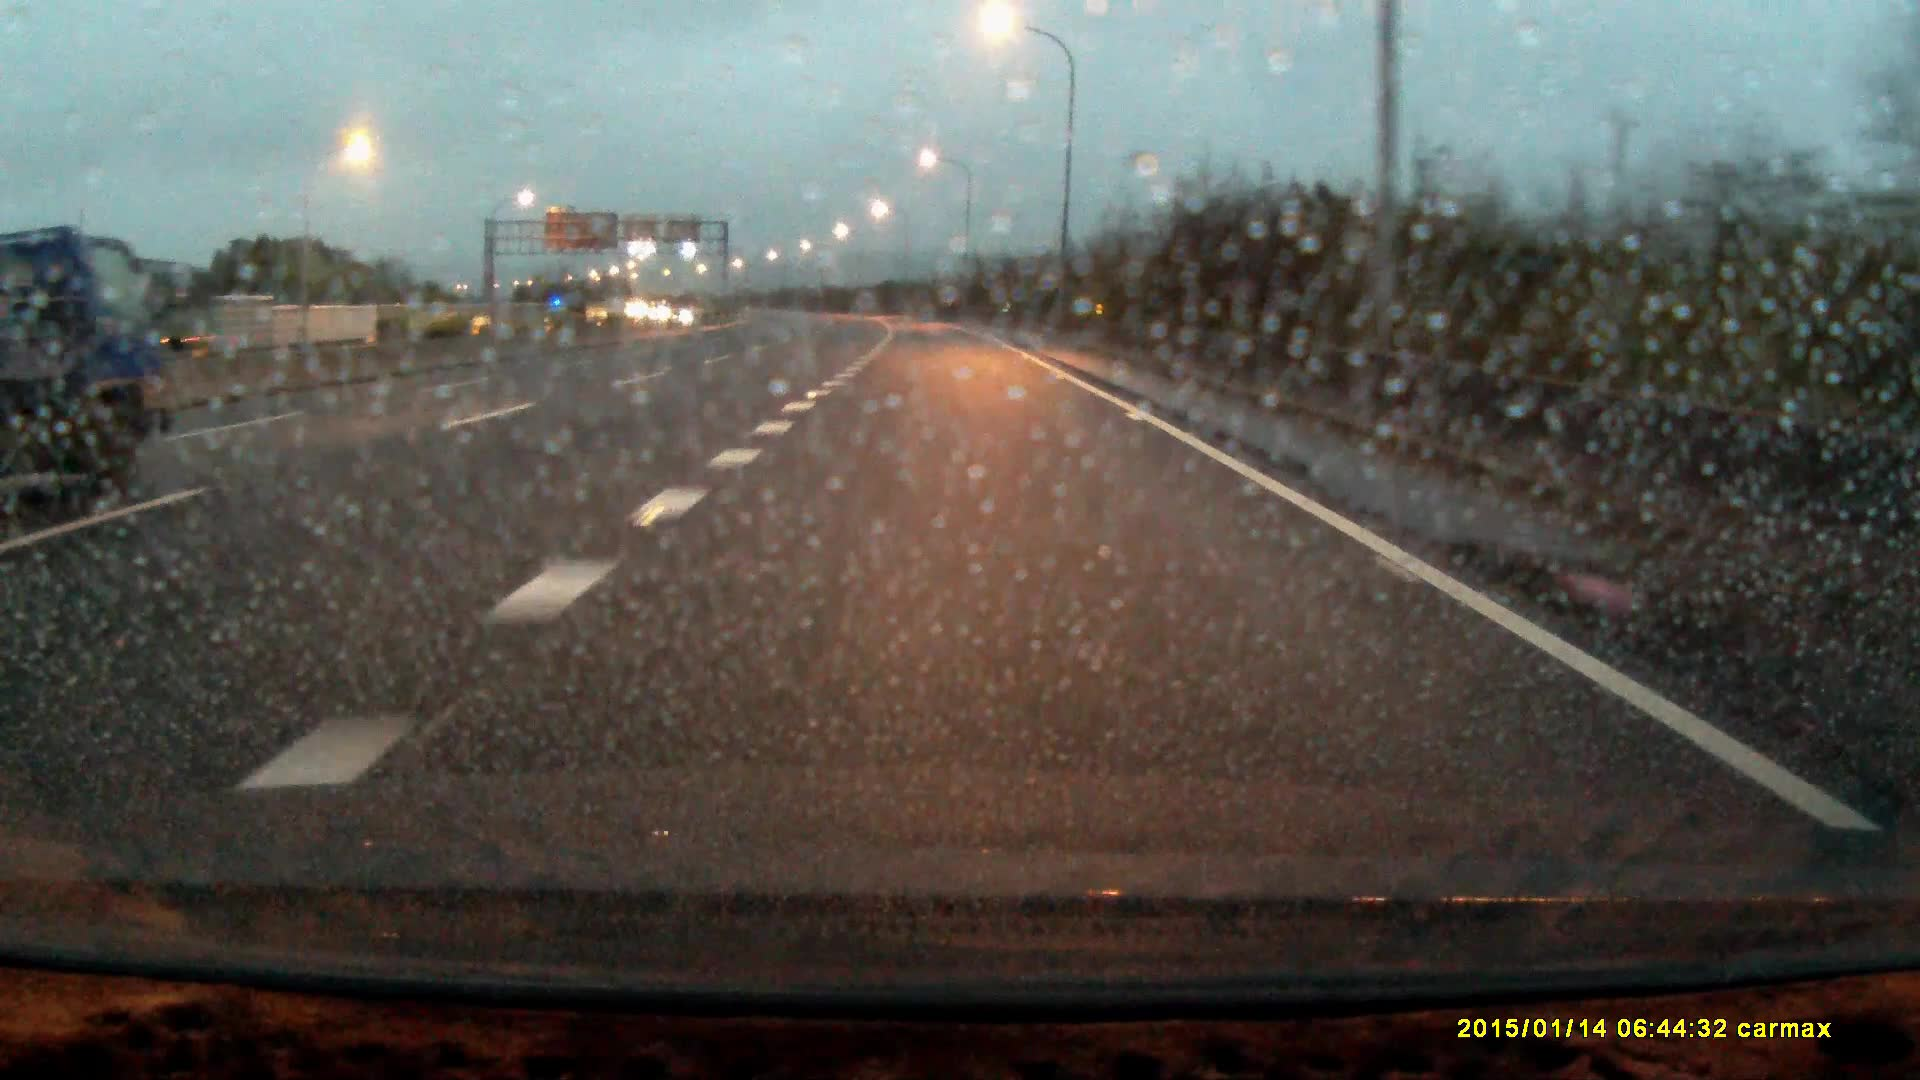vehicle: (1, 219, 199, 525)
